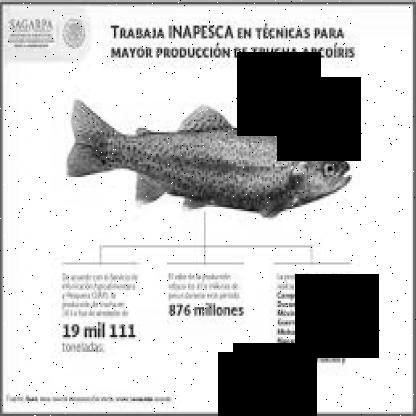fish: (63, 95, 353, 219)
